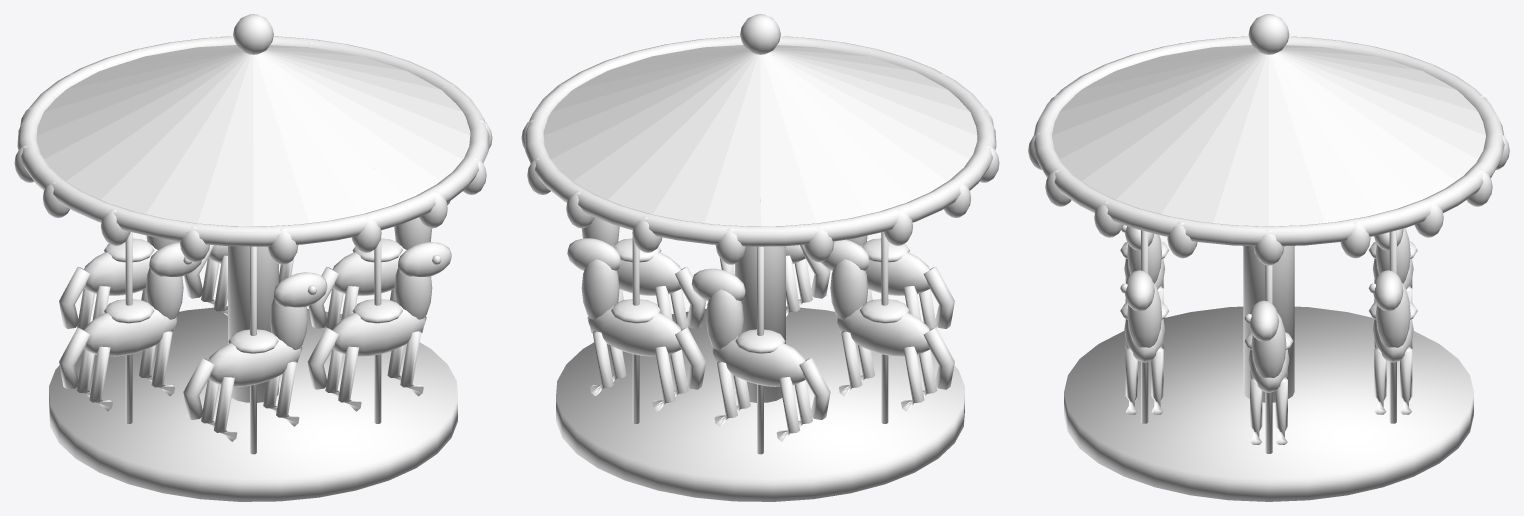
The model's file is r207_carousel.glb.
The picture shows the model from 3 angles, left to right: view 1: azimuth 30°, elevation 25°; view 2: azimuth 150°, elevation 25°; view 3: azimuth 270°, elevation 25°; orthographic projection.
Visible parts, largest first — view 1: r207Carousel; view 2: r207Carousel; view 3: r207Carousel.
Boxes of the visible parts, box(x1,y1,x2,y2) form: r207Carousel: box(14, 14, 492, 501); r207Carousel: box(521, 14, 999, 501); r207Carousel: box(1028, 14, 1509, 501).
Size of the model in its own units: 0.94 by 0.86 by 0.94.
6 materials, 6 textured.
